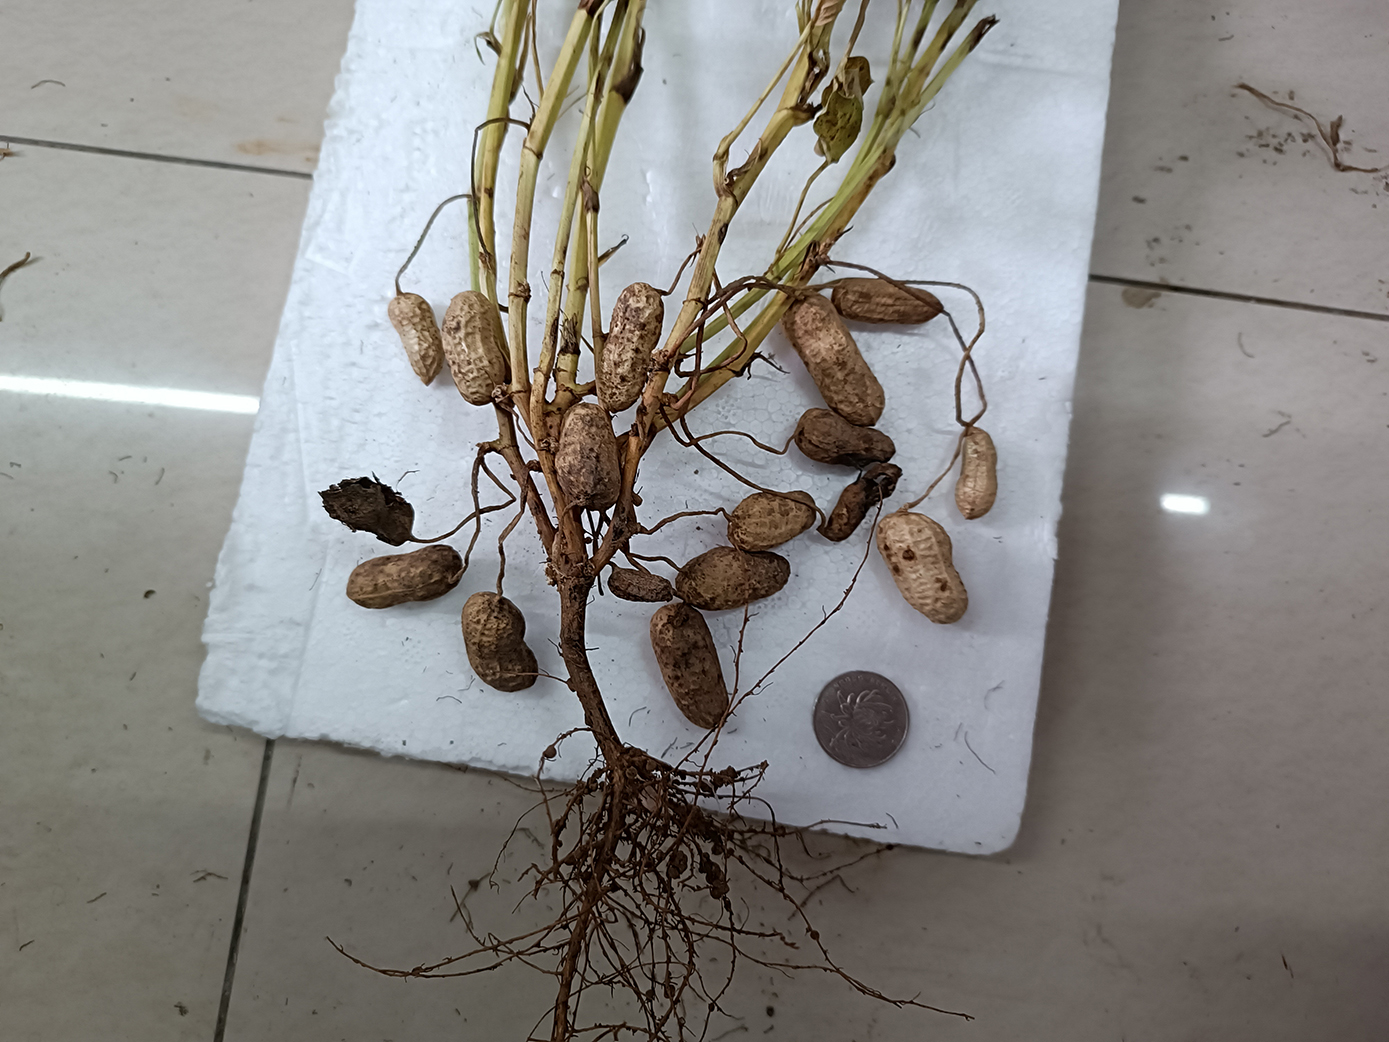h: (782, 291, 886, 427), (876, 512, 968, 624), (441, 290, 511, 407), (461, 591, 539, 692), (554, 402, 621, 509), (727, 490, 817, 549), (387, 293, 443, 387), (954, 425, 998, 520)
l: (649, 602, 729, 730), (595, 281, 665, 414), (316, 470, 415, 548), (345, 544, 463, 610), (675, 546, 790, 611), (819, 463, 903, 543), (794, 408, 896, 466), (831, 277, 945, 324), (607, 568, 673, 603)
